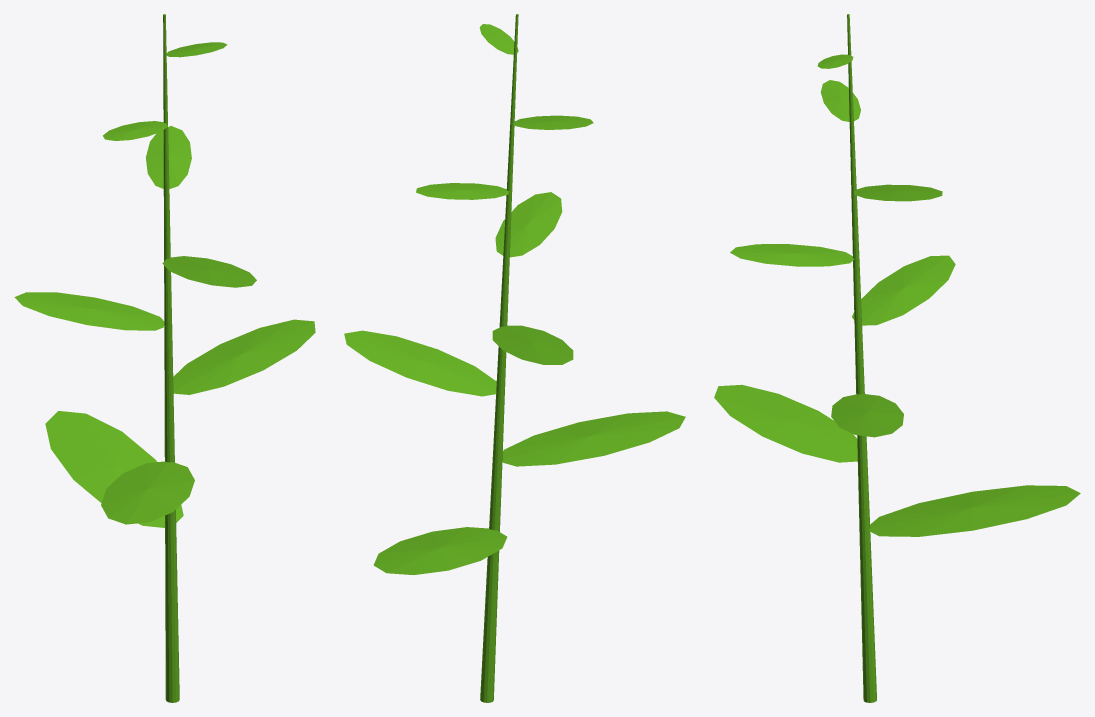
3 views of the same model, side by side, from view 1: azimuth 30°, elevation 25°; view 2: azimuth 150°, elevation 25°; view 3: azimuth 270°, elevation 25° (orthographic). The views are drawn at different scales.
Parts seen in each view (by area): view 1: tree; view 2: tree; view 3: tree.
Part boxes in pixels (<box>): tree: <box>14,14,315,702</box>; tree: <box>344,14,685,702</box>; tree: <box>714,14,1080,702</box>.
Size of the model in its own units: 0.1401 by 0.1671 by 0.3401.
